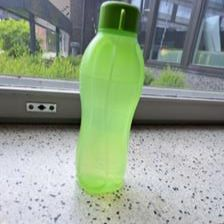bottle: (70, 3, 150, 196)
